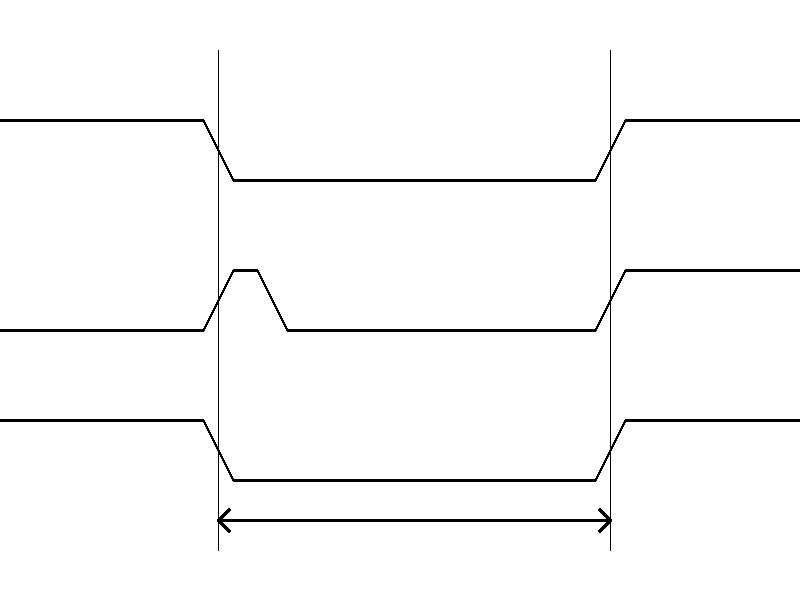double_arrow: (218, 505, 610, 535)
